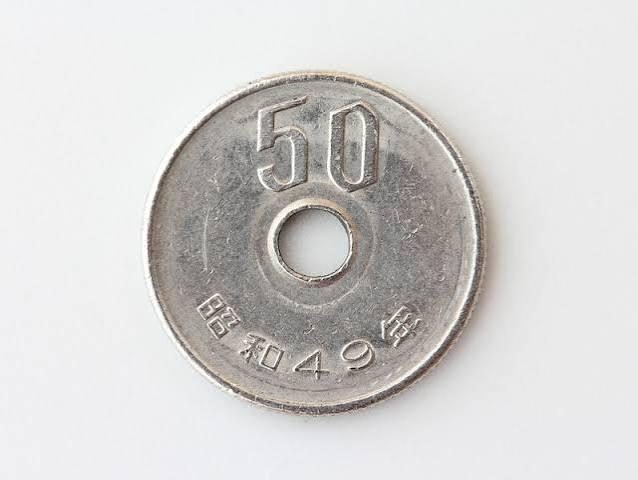year: (197, 292, 428, 390)
